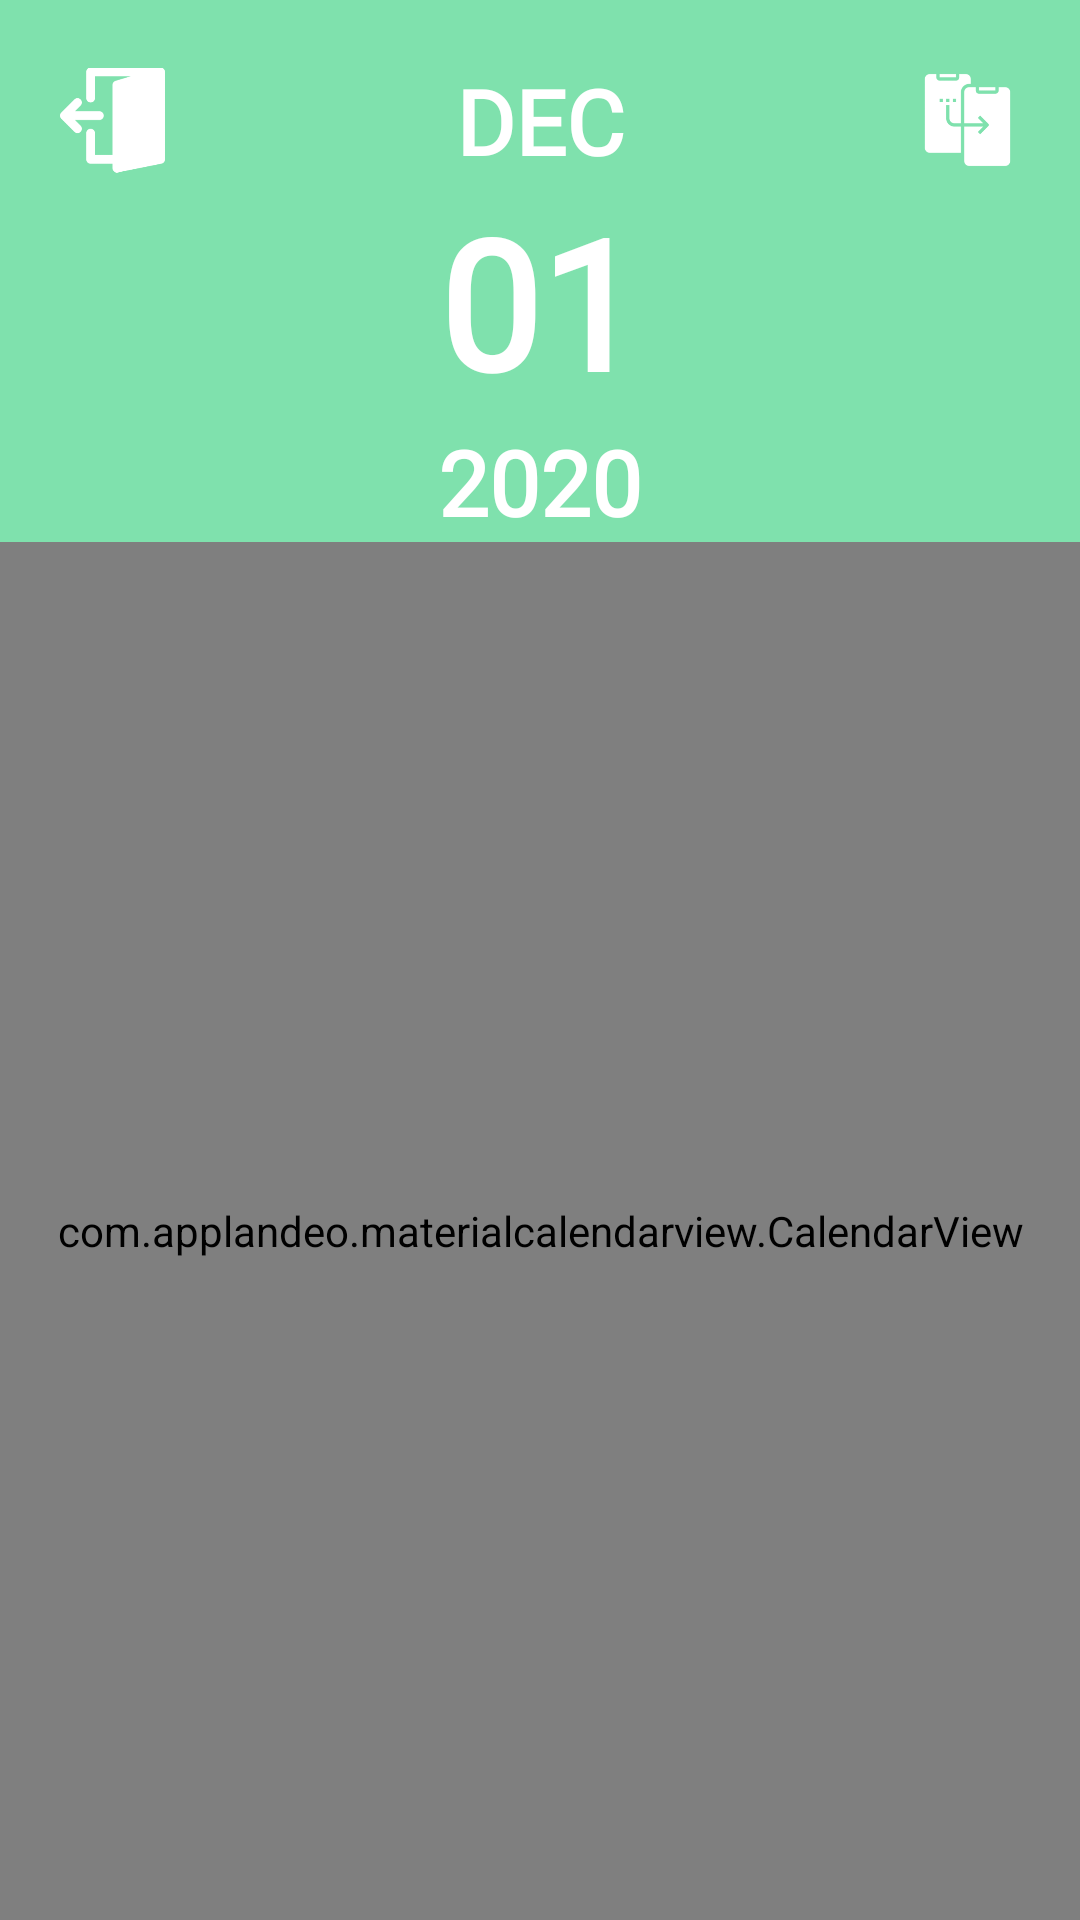

Locate icon controls on the screen. Image size 1080w x 1920h, boxes as (x1, y1, x2, y2).
cerrar sesion: (60, 68, 165, 173)
clonar: (925, 74, 1010, 166)
